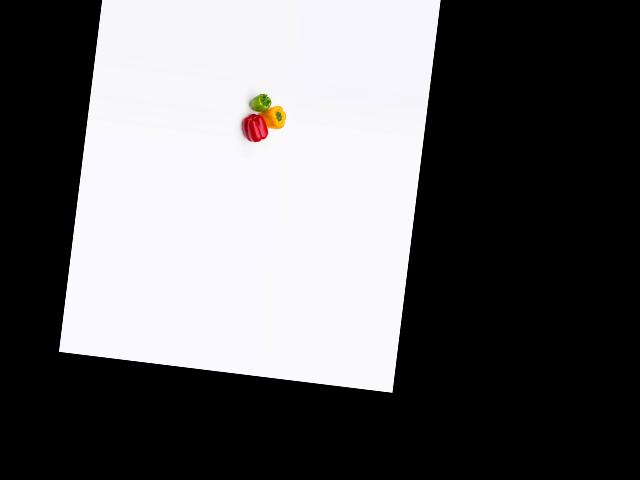bell_pepper: (247, 87, 274, 114)
